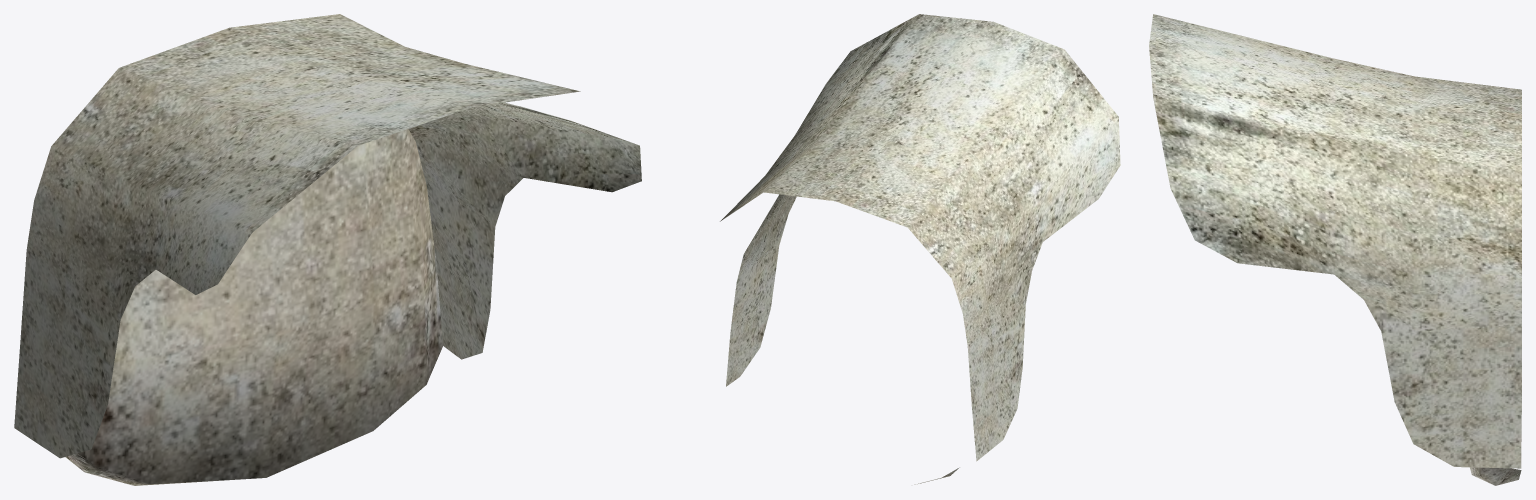
The model's file is furniture_duhoc_armchair_dirty.glb.
3 views of the same model, side by side, from view 1: azimuth 30°, elevation 25°; view 2: azimuth 150°, elevation 25°; view 3: azimuth 270°, elevation 25° (orthographic). The views are drawn at different scales.
Size of the model in its own units: 33.02 by 37.48 by 30.93.
1 material, 1 textured.
